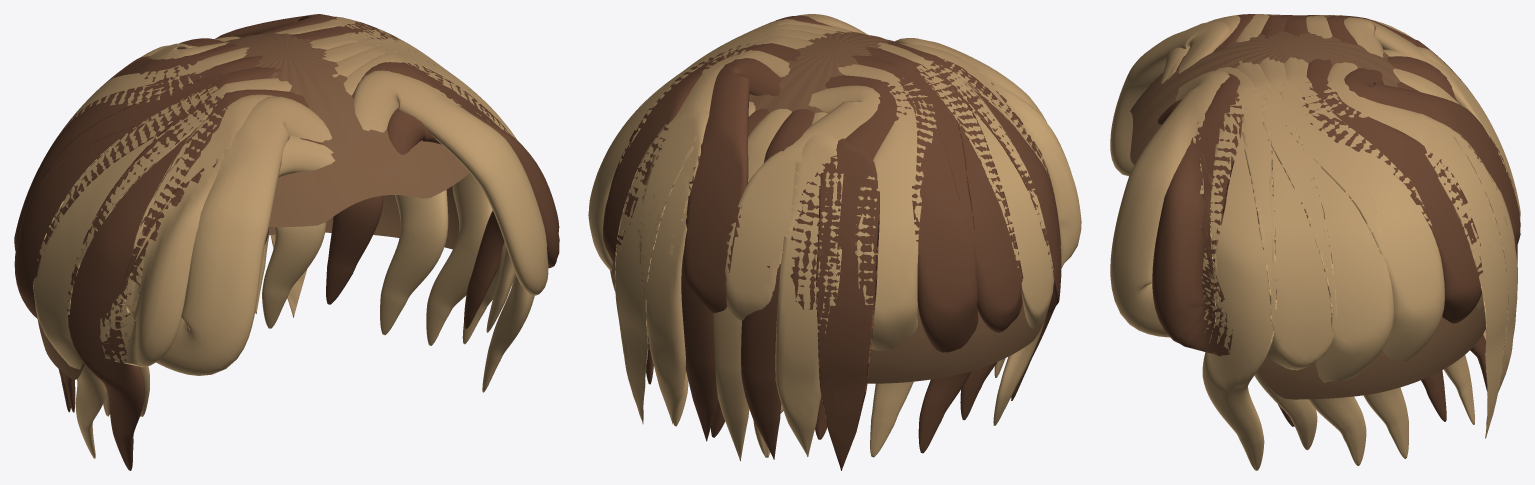
File: Highlights-124d95a2baad251-hair.glb
The picture shows the model from 3 angles, left to right: view 1: azimuth 30°, elevation 25°; view 2: azimuth 150°, elevation 25°; view 3: azimuth 270°, elevation 25°; orthographic projection. The views are drawn at different scales.
Visible parts, largest first — view 1: 226 hair / Hair / main251.001, 226 hair / Hair / accent251.001, 226 hair / Hair / recessed roots251.001; view 2: 226 hair / Hair / main251.001, 226 hair / Hair / accent251.001, 226 hair / Hair / recessed roots251.001; view 3: 226 hair / Hair / main251.001, 226 hair / Hair / accent251.001, 226 hair / Hair / recessed roots251.001.
Part boxes in pixels (bbox=[...]): 226 hair / Hair / main251.001: bbox=[14, 14, 559, 470]; 226 hair / Hair / accent251.001: bbox=[33, 16, 548, 458]; 226 hair / Hair / recessed roots251.001: bbox=[37, 32, 469, 380]; 226 hair / Hair / main251.001: bbox=[589, 15, 1061, 470]; 226 hair / Hair / accent251.001: bbox=[588, 14, 1081, 460]; 226 hair / Hair / recessed roots251.001: bbox=[610, 31, 1050, 383]; 226 hair / Hair / main251.001: bbox=[1110, 14, 1520, 465]; 226 hair / Hair / accent251.001: bbox=[1110, 14, 1520, 470]; 226 hair / Hair / recessed roots251.001: bbox=[1130, 31, 1485, 399].
Size of the model in its own units: 1.07 by 0.832 by 0.8705.
